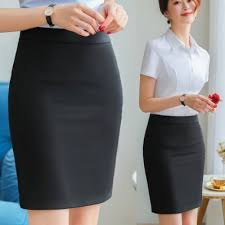F_shirt: (140, 25, 214, 122)
F_tailored skirt: (5, 22, 124, 213), (141, 112, 210, 219)
